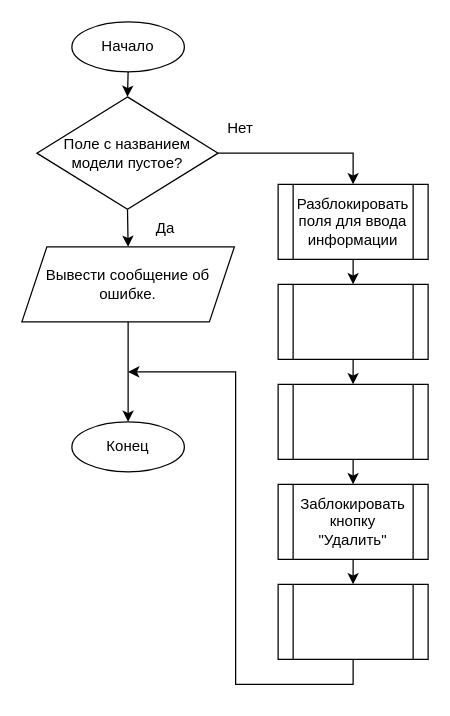
This 450x716 diagram has some shape labels left out. Each missing label, with the box of its shape:
Заблокировать кнопку "Изменить": (277, 283, 428, 359)
Заблокировать строку поиска: (277, 383, 428, 459)
Разблокировать кнопку "Подтвердить": (277, 583, 428, 659)
